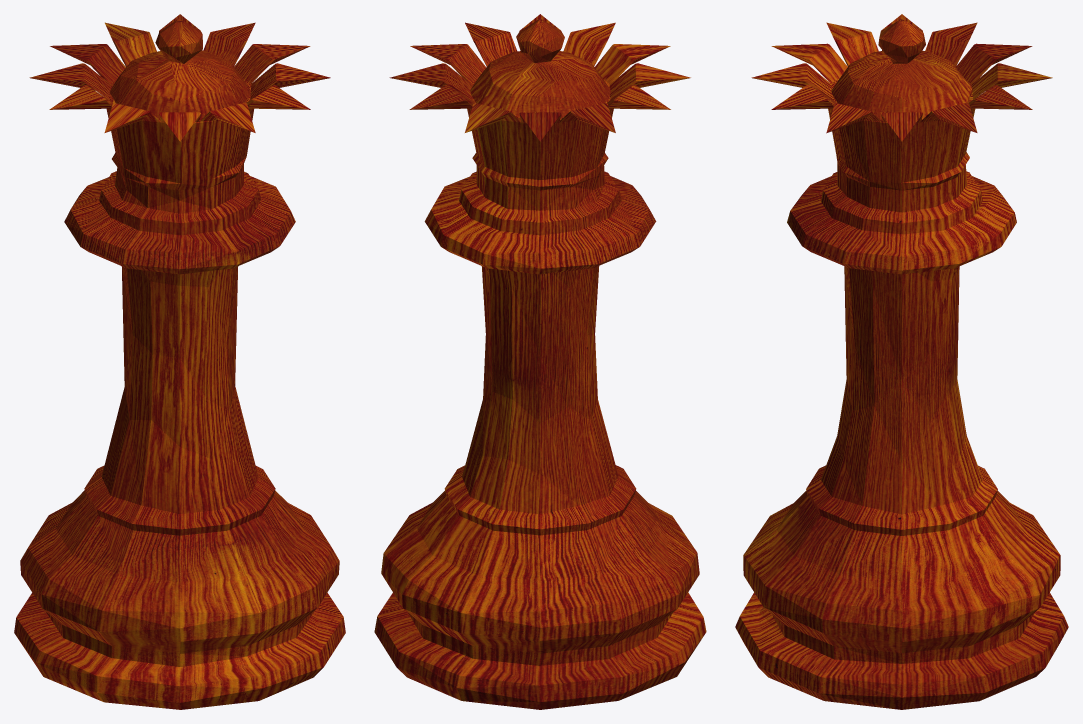
File: QueenWhite.obj
3 views of the same model, side by side, from view 1: azimuth 30°, elevation 25°; view 2: azimuth 150°, elevation 25°; view 3: azimuth 270°, elevation 25° (orthographic).
Parts seen in each view (by area): view 1: mesh01; view 2: mesh01; view 3: mesh01.
Part boxes in pixels (x1=…): mesh01: x1=14, y1=14, x2=345, y2=709; mesh01: x1=374, y1=14, x2=706, y2=709; mesh01: x1=735, y1=14, x2=1068, y2=709.
Bounding box in the file's own units: 14.98 × 31 × 14.98.
Materials: 1 (1 with a texture image).
